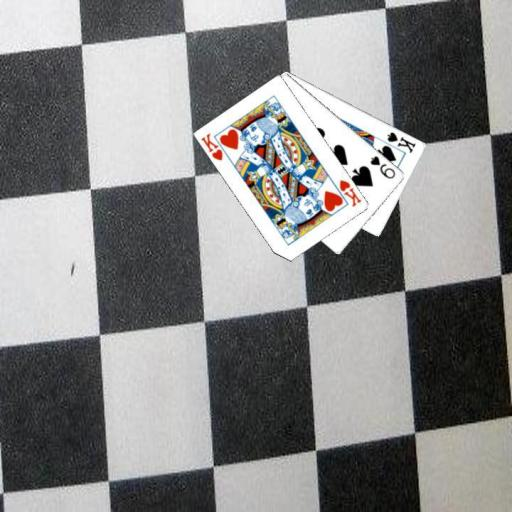9S: (367, 152, 397, 180)
KH: (337, 177, 364, 209), (198, 130, 225, 162)
KS: (384, 129, 417, 154)
